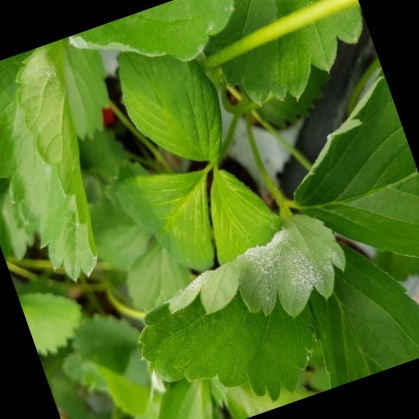Powdery_Leaf: (96, 210, 323, 415), (14, 0, 127, 235), (68, 0, 308, 64)
